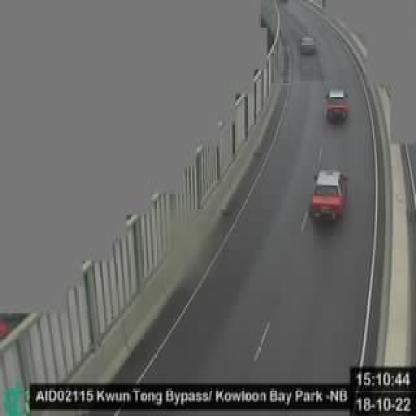Car: (309, 169, 349, 226), (324, 87, 350, 125), (300, 32, 317, 54)
